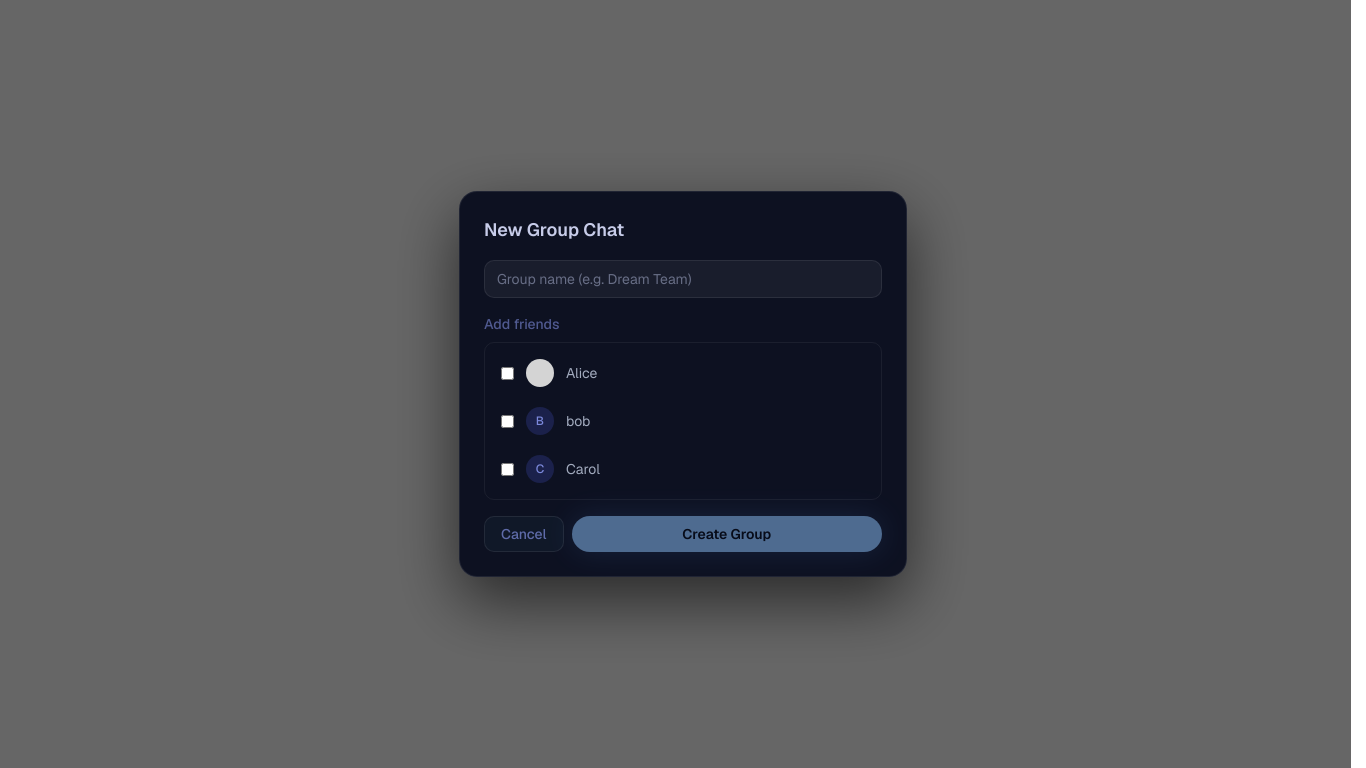
Test case: CreateGroupModal – handleCreate (success) › shows 'Creating...' while the request is in flight
Type "Squad" into the field with placeholder "Group name (e.g. Dream Team)" at (683,279), box [484,260,882,298]
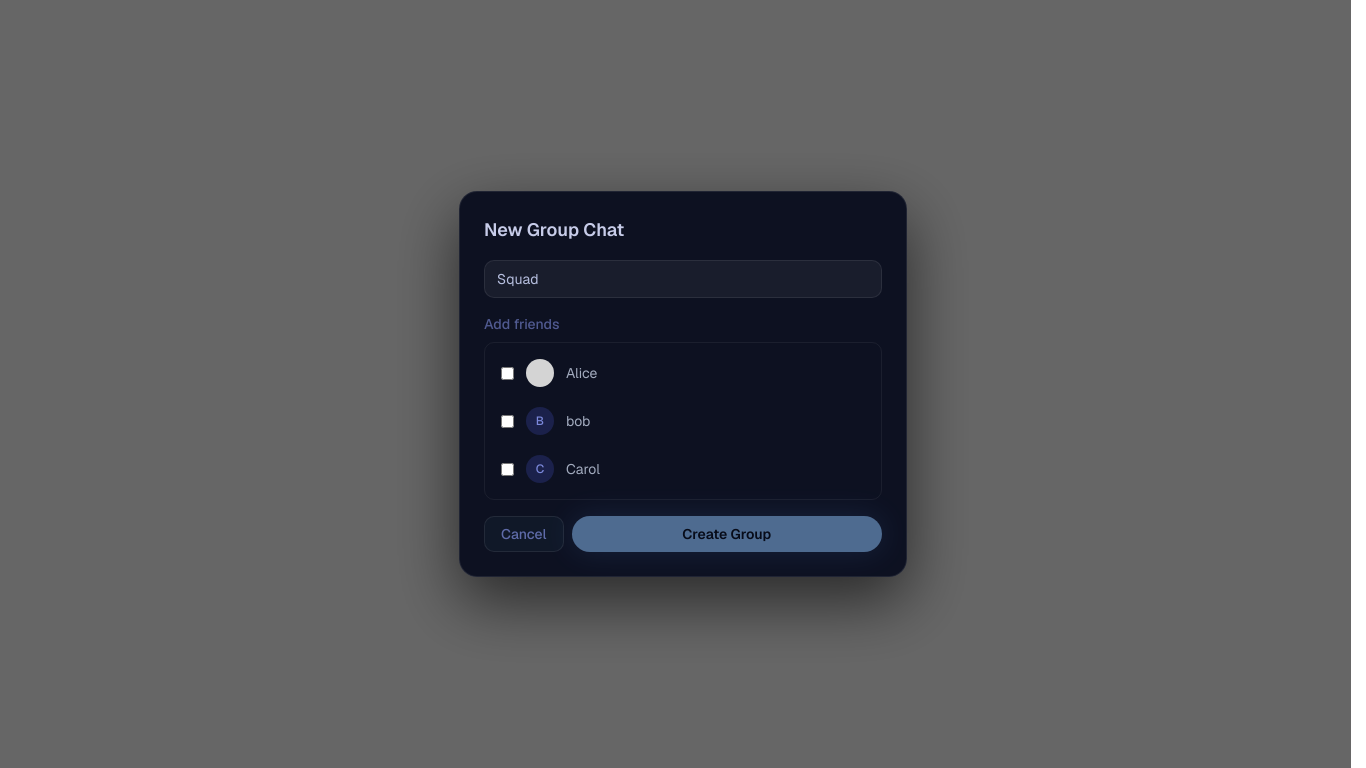
Click the text "Alice" at (549,373), box [501,359,597,387]
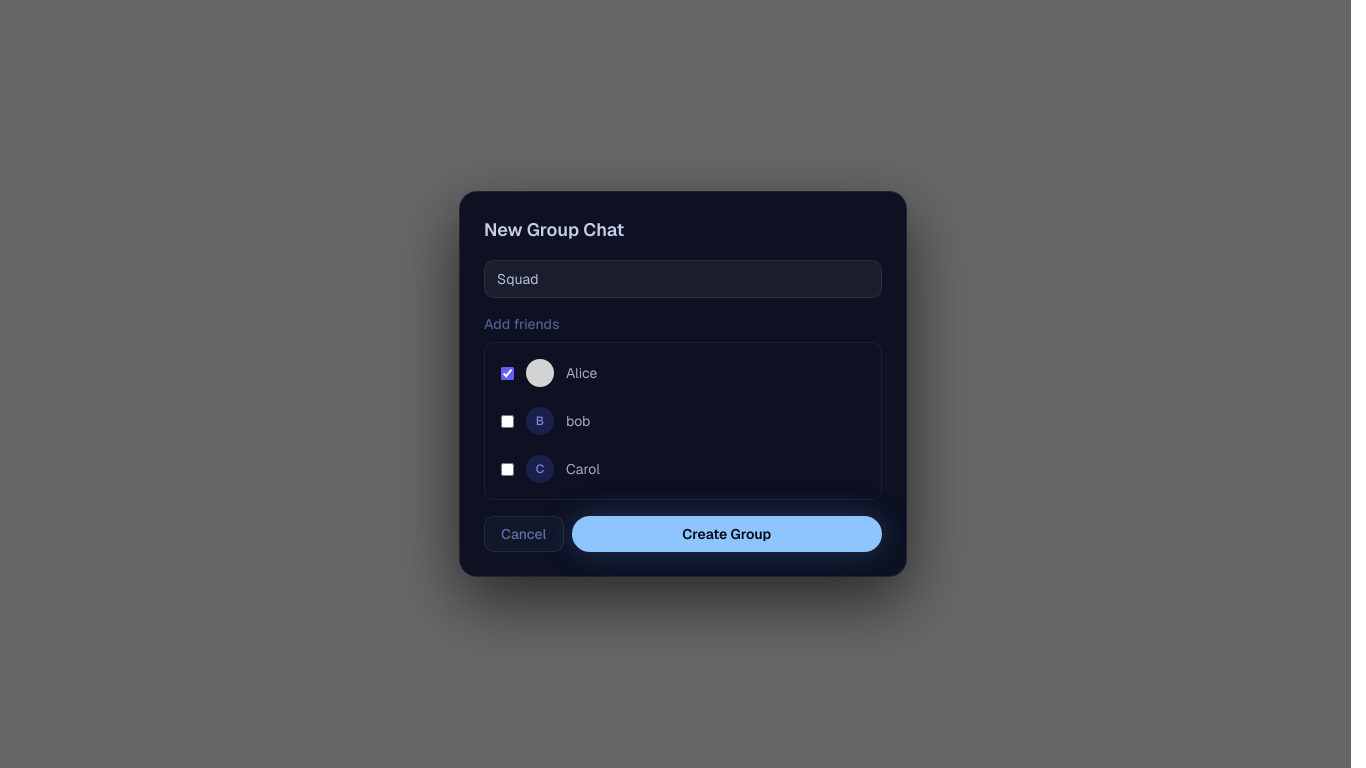
Click the button "Create Group" at (727,534), box [572,516,882,552]
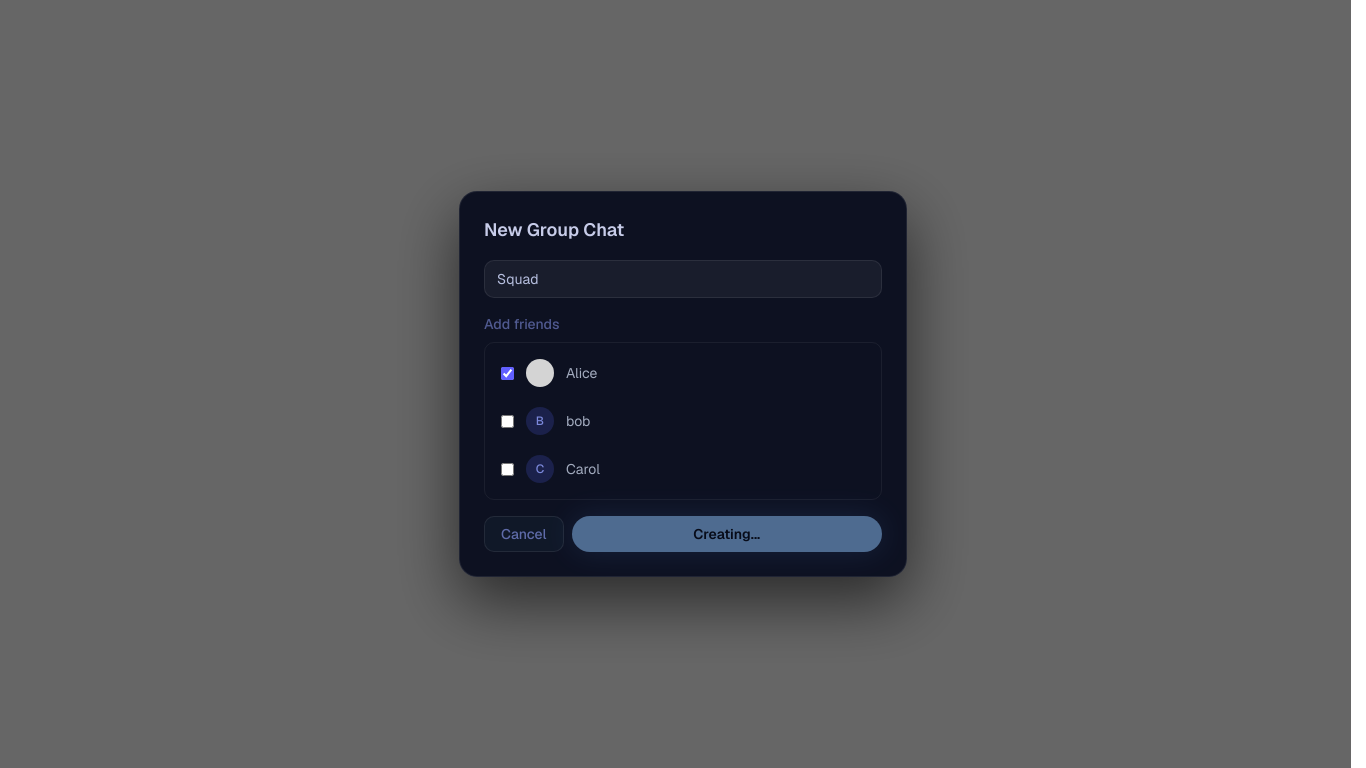
Result: the button "Creating..." is disabled at [572,516,882,552]
